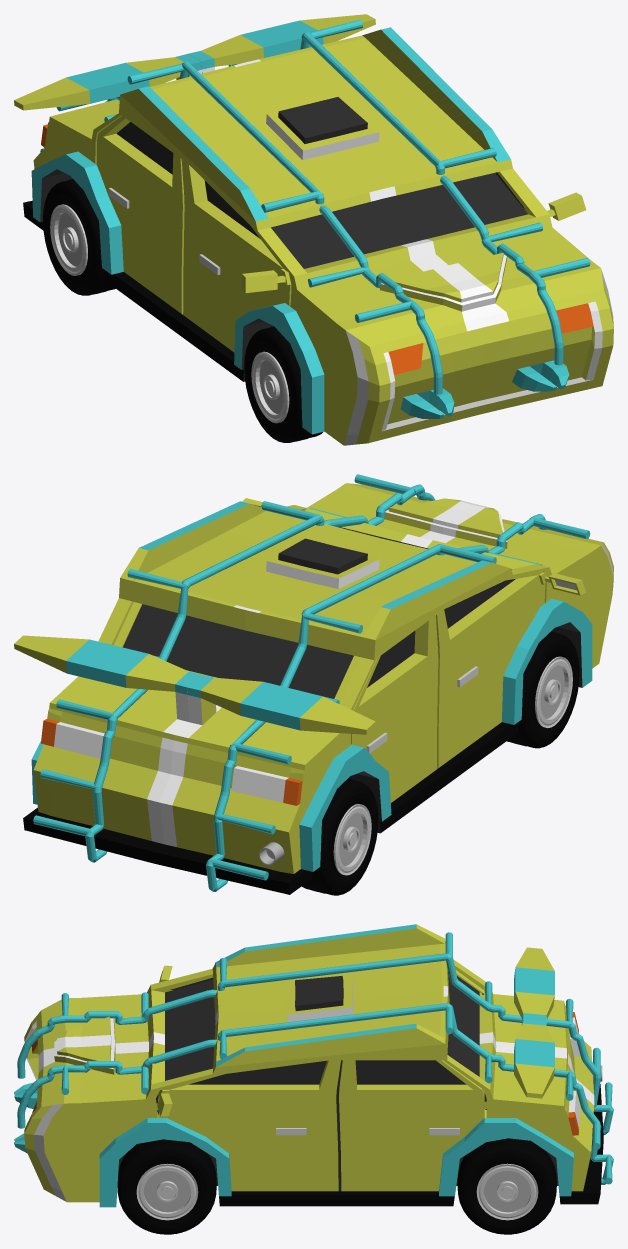
The picture shows the model from 3 angles, top to bottom: view 1: azimuth 30°, elevation 25°; view 2: azimuth 150°, elevation 25°; view 3: azimuth 270°, elevation 25°; orthographic projection. The views are drawn at different scales.
Parts seen in each view (by area): view 1: BODY42B, Plane, WHEEL.004, WHEEL.001; view 2: BODY42B, Plane, WHEEL.004, WHEEL.001; view 3: BODY42B, Plane, WHEEL.002, WHEEL.003.
Boxes of the visible parts, x1,y1,x2,y2 form: BODY42B: (14,14,613,445); Plane: (40,19,590,394); WHEEL.004: (43,179,115,295); WHEEL.001: (244,326,322,442); BODY42B: (14,483,613,894); Plane: (33,474,590,891); WHEEL.004: (301,778,378,895); WHEEL.001: (507,631,579,748); BODY42B: (14,924,603,1207); Plane: (17,932,613,1184); WHEEL.002: (457,1138,556,1234); WHEEL.003: (117,1139,216,1234).
Size of the model in its own units: 135 by 88.16 by 236.
